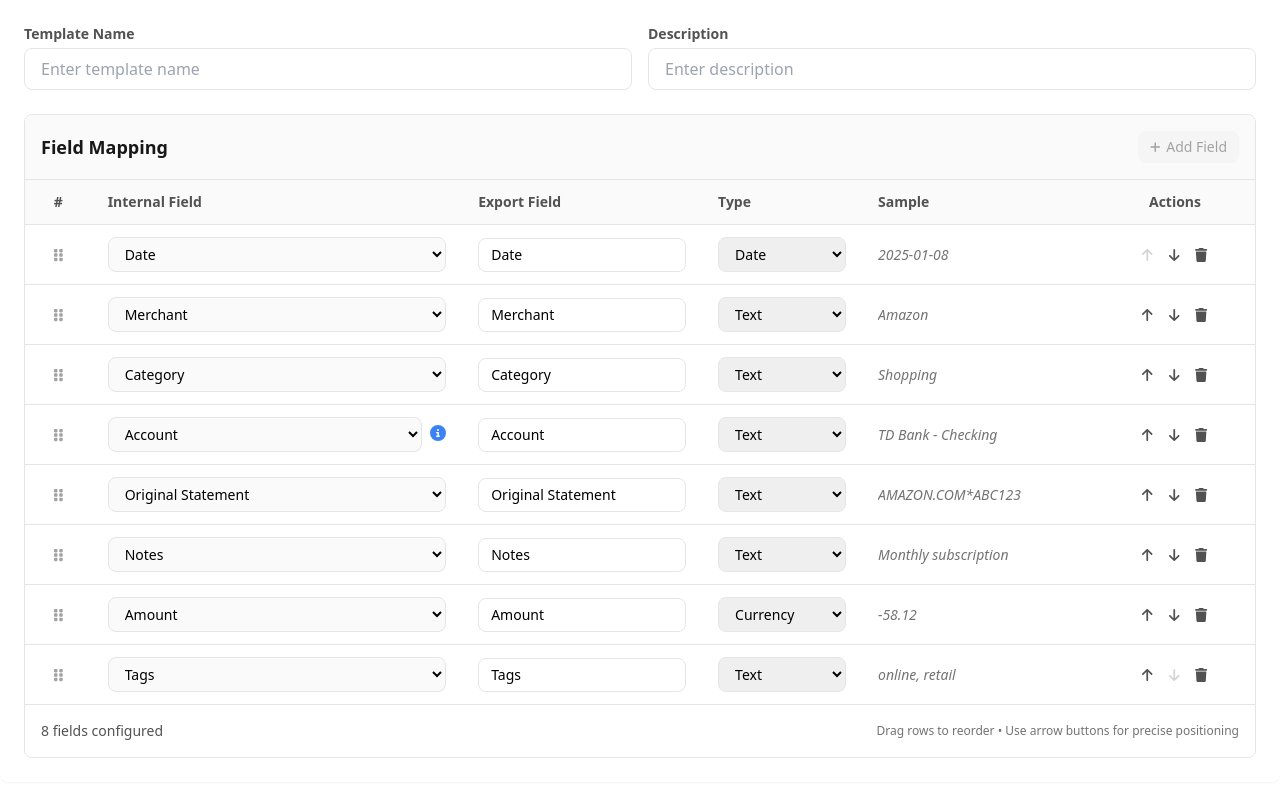
Test: NewTemplateEditor › Field Management › should add field after deleting one
// Delete a field first
Click the button titled "Delete" in the row of "2025-01-08": click(1202, 254) 1189,242 -> 1214,268
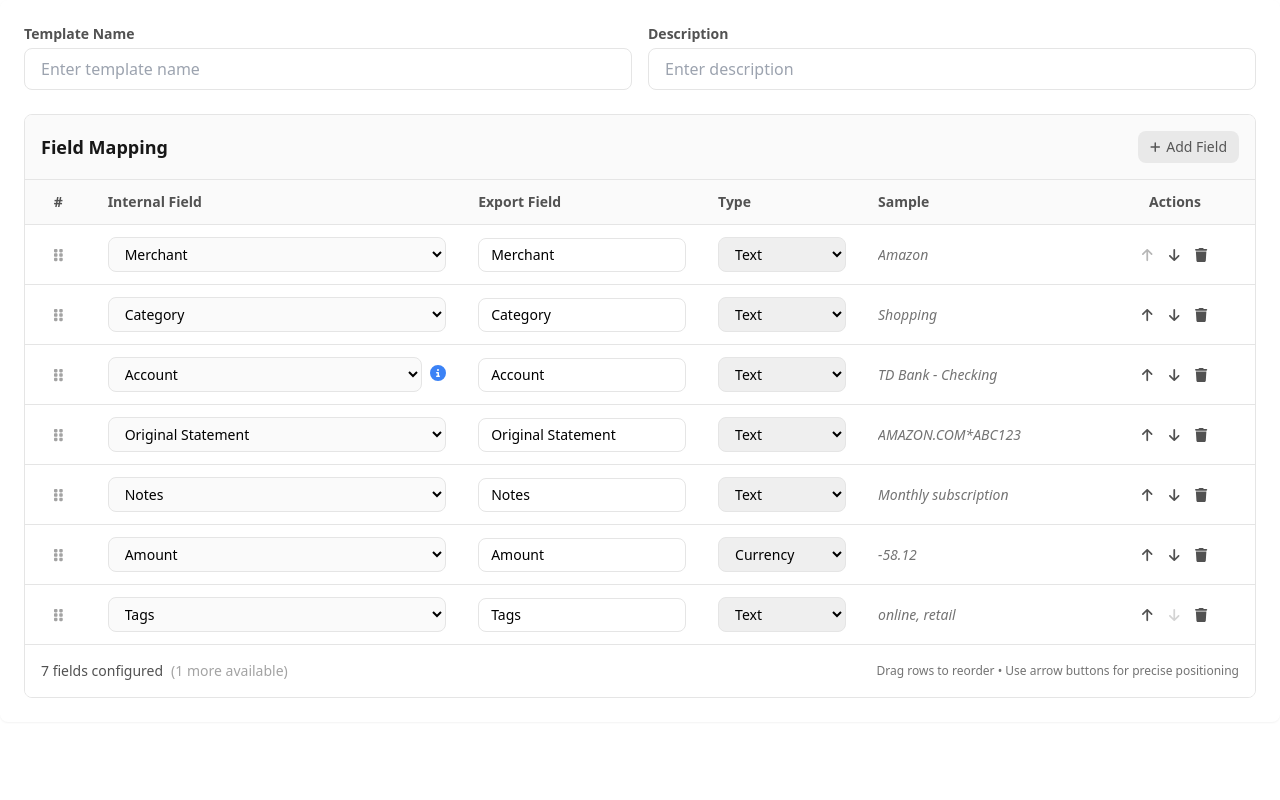
// Click Add Field
Click the button "Add Field": click(1188, 147) 1138,131 -> 1239,163
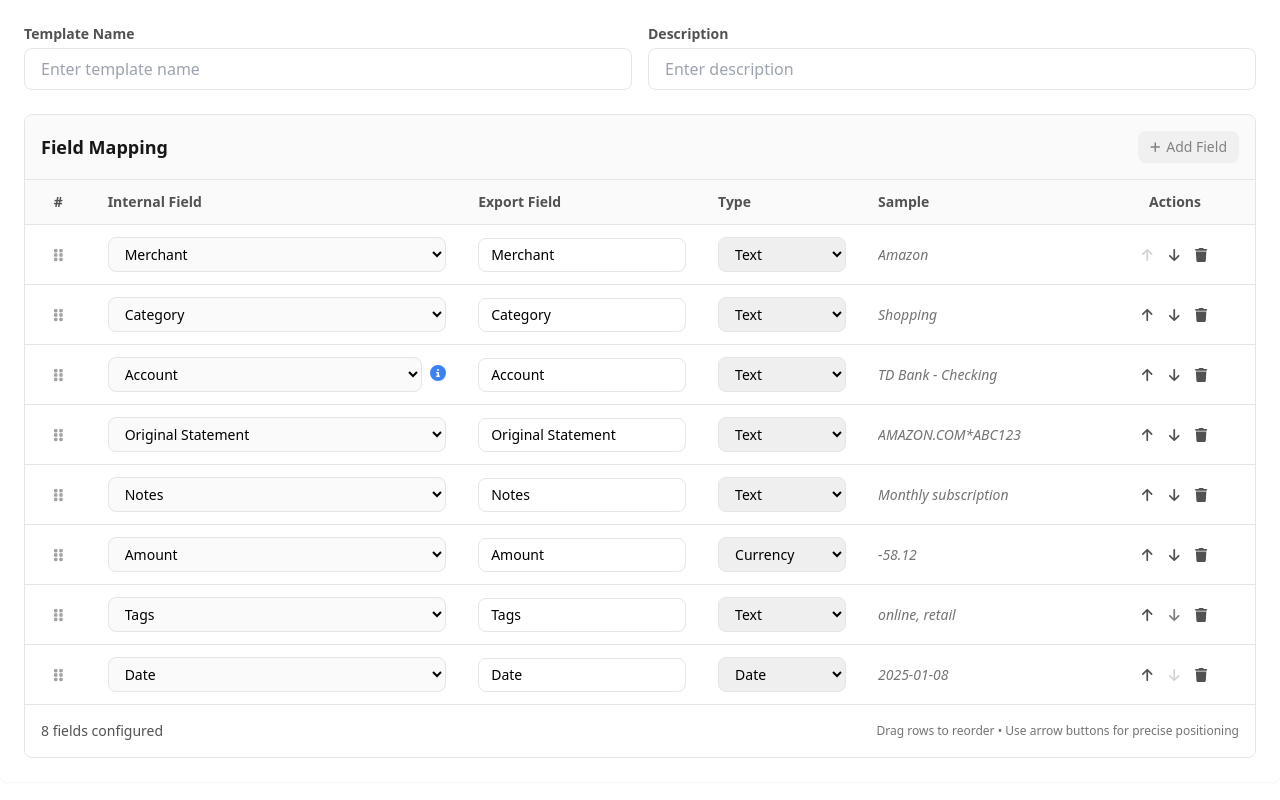
Expected: the text "8 fields configured" is shown, 41,721 -> 163,741
